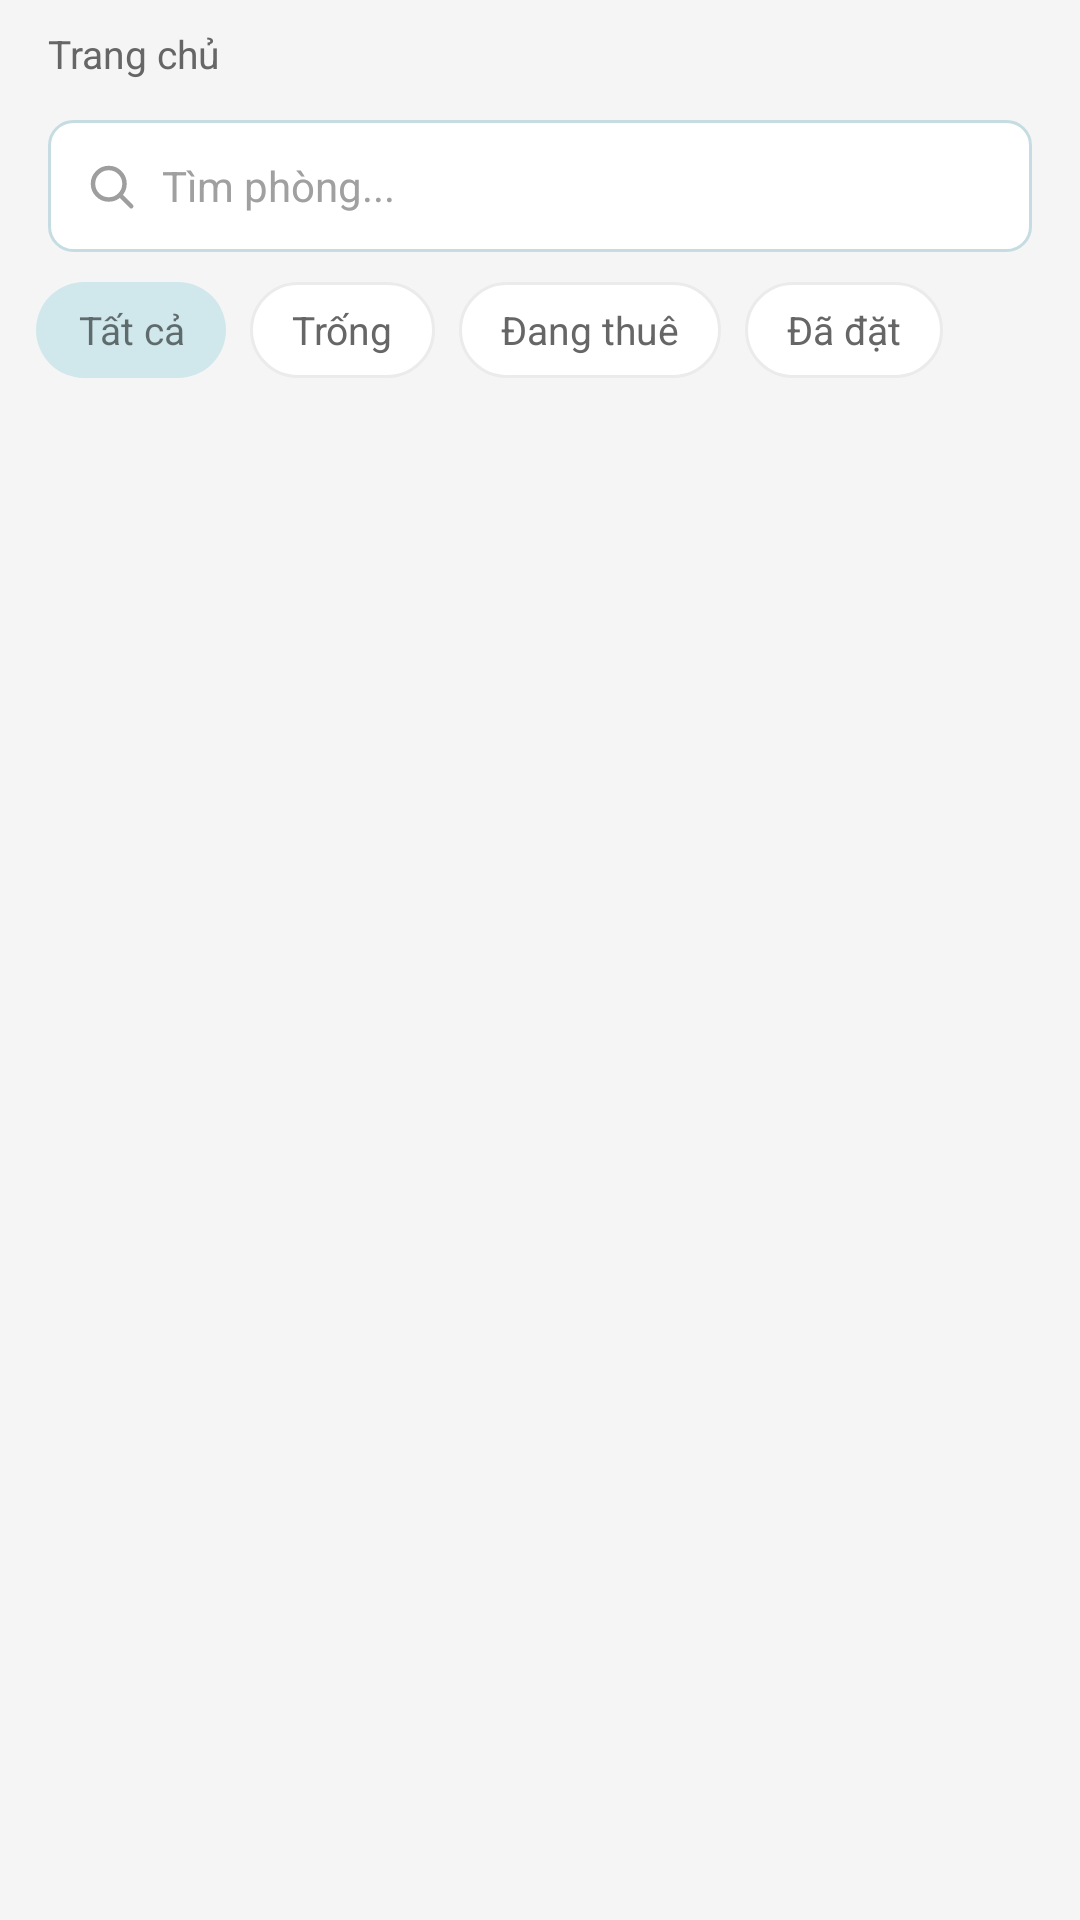

Screen size 1080px x 1920px. Icon name, then its center in pixels as (x=x, y=y):
Tìm kiếm: (x=112, y=187)
